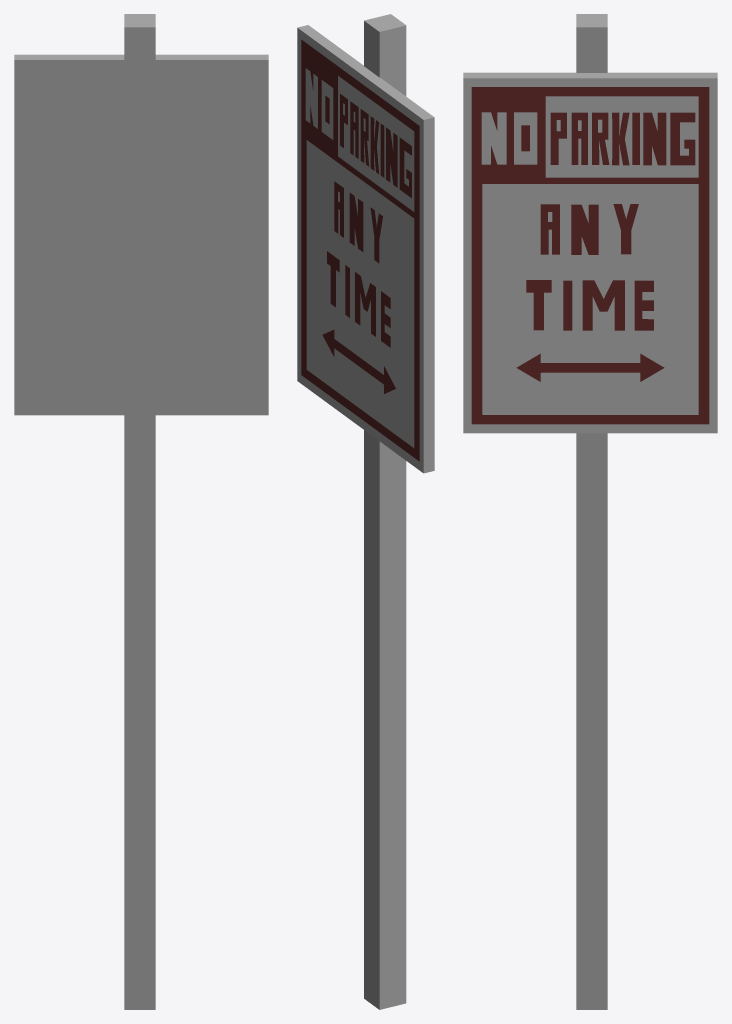
Rendered from SM_road_sign_6.gltf.
3 renders of one model, left to right at view 1: azimuth 90°, elevation 25°; view 2: azimuth 210°, elevation 25°; view 3: azimuth 270°, elevation 25°, orthographic.
Visible parts, largest first — view 1: SM_road_sign_6; view 2: SM_road_sign_6; view 3: SM_road_sign_6.
Boxes of the visible parts, box(x1,y1,x2,y2) form: SM_road_sign_6: box(14, 14, 268, 1009); SM_road_sign_6: box(297, 14, 434, 1009); SM_road_sign_6: box(463, 14, 717, 1009).
Size of the model in its own units: 0.0894 by 2.15 by 0.5037.
1 material, 1 textured.
